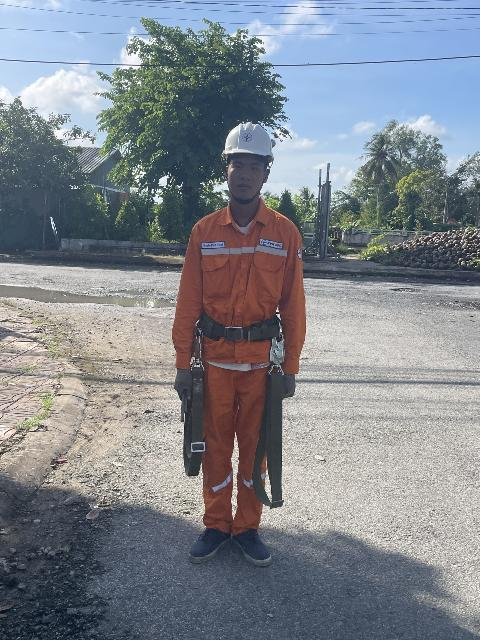gloves: (168, 362, 199, 404), (276, 367, 308, 402)
harness: (185, 305, 294, 353)
helmet: (210, 111, 296, 173)
shoes: (187, 516, 235, 570), (238, 511, 276, 567)
